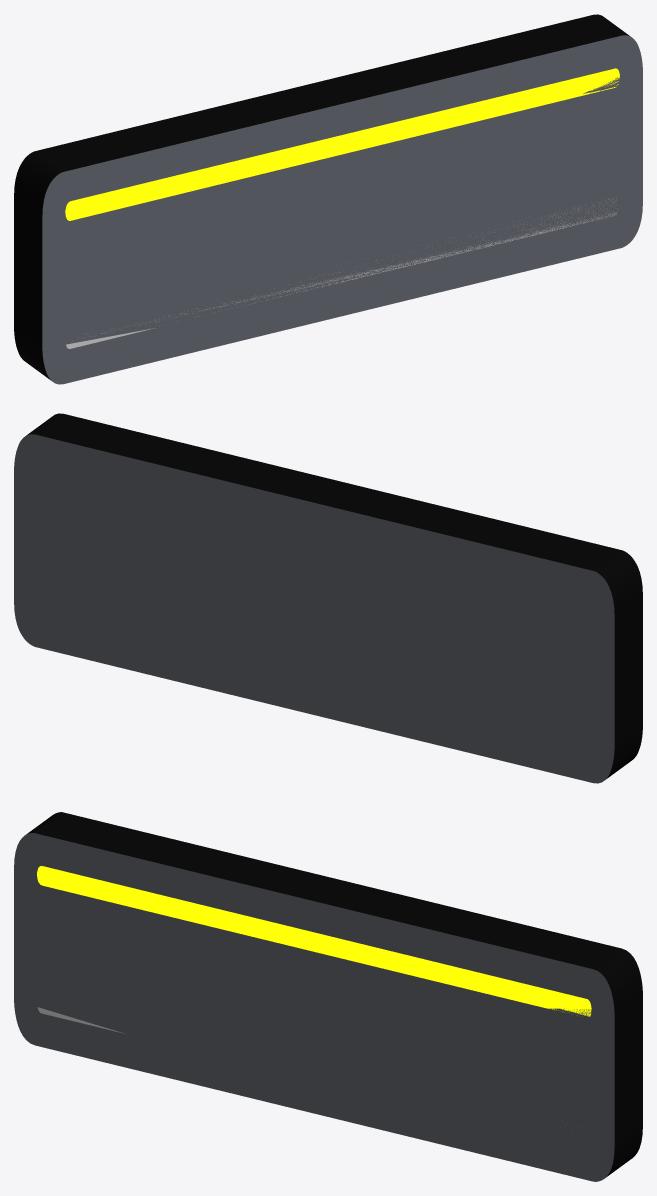
File: SM_SpringPurple.fbx
The picture shows the model from 3 angles, top to bottom: view 1: azimuth 30°, elevation 25°; view 2: azimuth 150°, elevation 25°; view 3: azimuth 330°, elevation 25°; orthographic projection.
Visible parts, largest first — view 1: SM_SpringPurple; view 2: SM_SpringPurple; view 3: SM_SpringPurple.
Part boxes in pixels (x1=…): SM_SpringPurple: x1=14, y1=14, x2=642, y2=384; SM_SpringPurple: x1=14, y1=413, x2=642, y2=783; SM_SpringPurple: x1=14, y1=812, x2=642, y2=1181.
Bounding box in the file's own units: 12.28 × 150 × 50.7.
